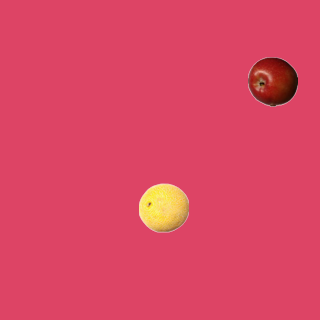Apple Braeburn: (247, 56, 297, 106)
Cantaloupe 1: (138, 182, 188, 232)
